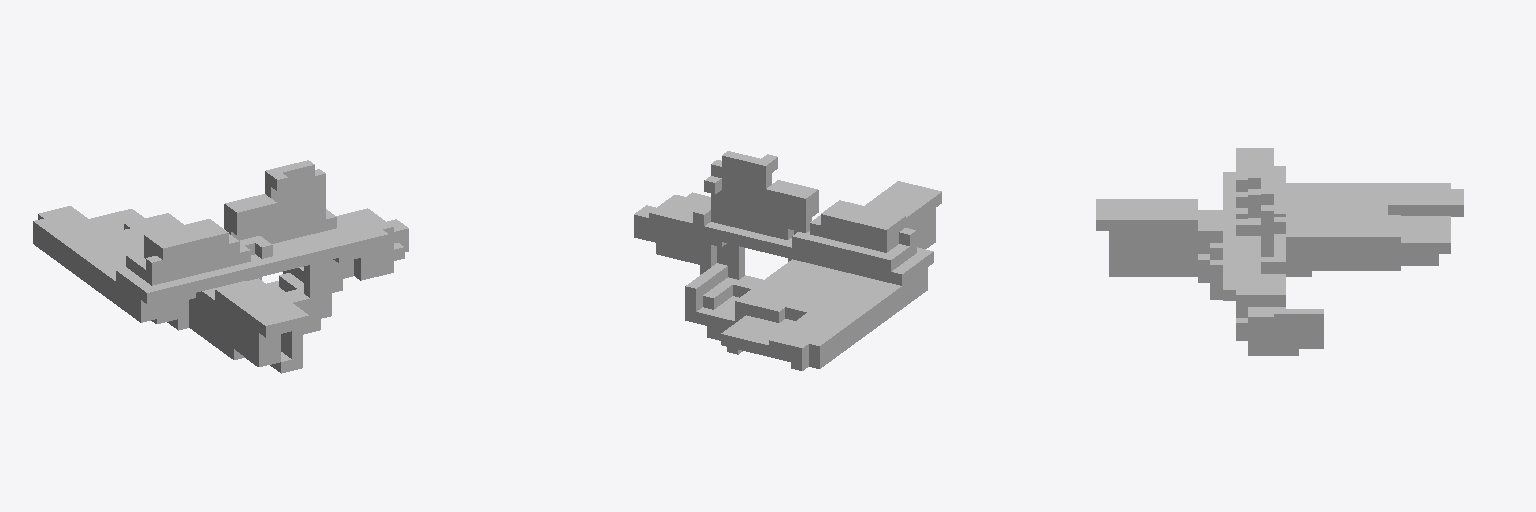
File: gun_part4.obj
The picture shows the model from 3 angles: view 1: azimuth 30°, elevation 25°; view 2: azimuth 150°, elevation 25°; view 3: azimuth 270°, elevation 25°; orthographic projection.
Visible parts, largest first — view 1: Cube.002; view 2: Cube.002; view 3: Cube.002.
Boxes of the visible parts, <box> form: Cube.002: <box>33,160,408,373</box>; Cube.002: <box>634,151,941,370</box>; Cube.002: <box>1096,148,1463,355</box>.
Size of the model in its own units: 1.54 by 0.926 by 1.79.